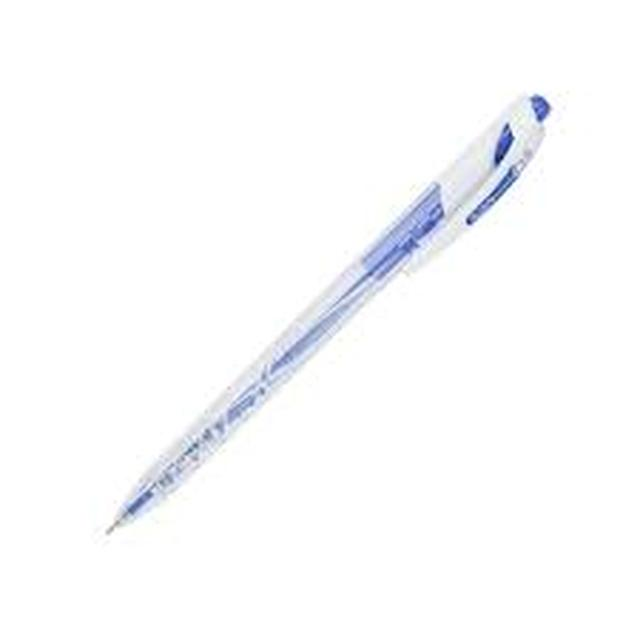pen: (72, 59, 603, 561)
